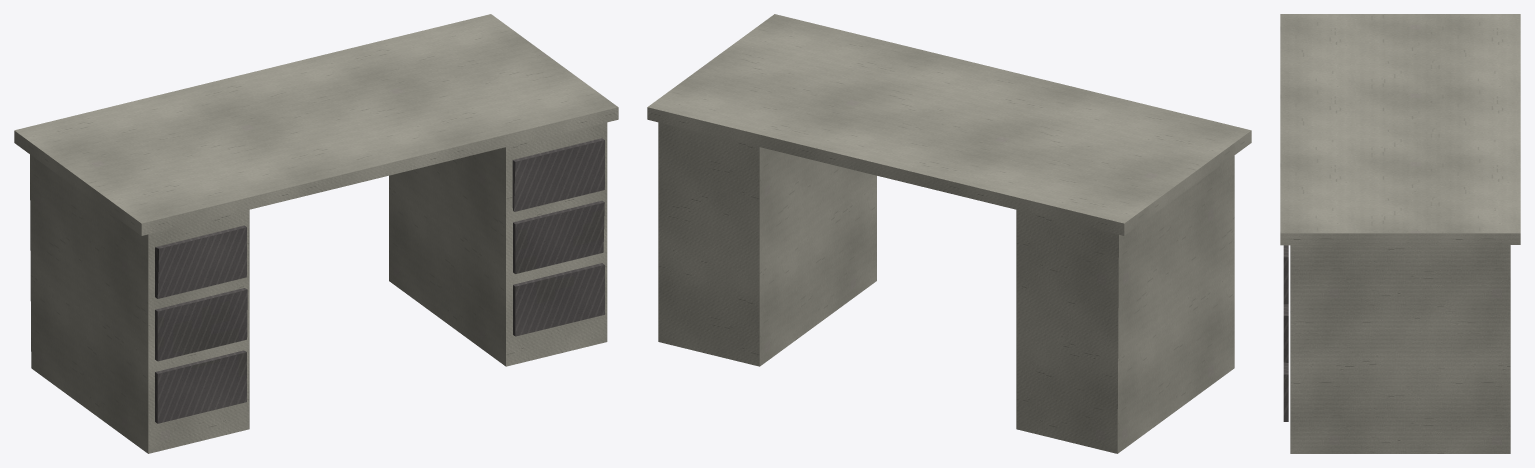
File: desk_v2.glb
3 renders of one model, left to right at view 1: azimuth 30°, elevation 25°; view 2: azimuth 150°, elevation 25°; view 3: azimuth 270°, elevation 25°, orthographic. The views are drawn at different scales.
Visible parts, largest first — view 1: Variant_desk_2; view 2: Variant_desk_2; view 3: Variant_desk_2.
Part boxes in pixels (x1,y1,x2,y2): Variant_desk_2: (14, 14, 618, 453); Variant_desk_2: (647, 14, 1251, 453); Variant_desk_2: (1280, 14, 1520, 453).
Bounding box in the file's own units: 1.6 × 0.76 × 0.74.
2 materials, 2 textured.
